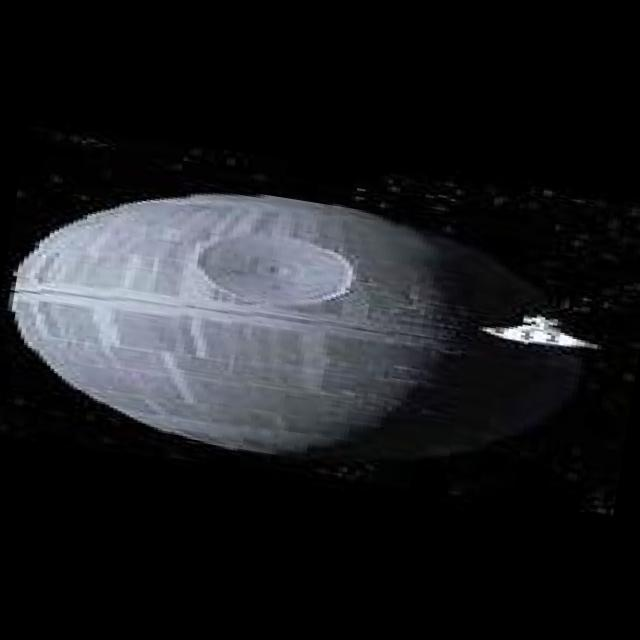Death Star: (0, 155, 610, 517)
